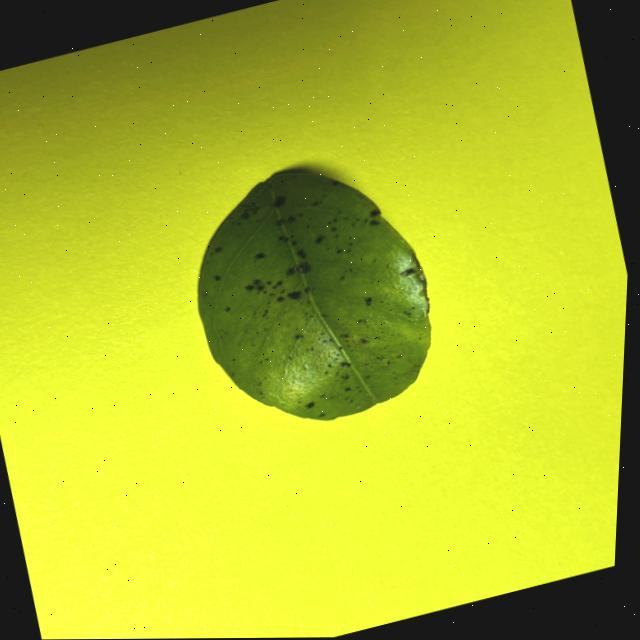sooty_mold: (199, 172, 430, 419)
